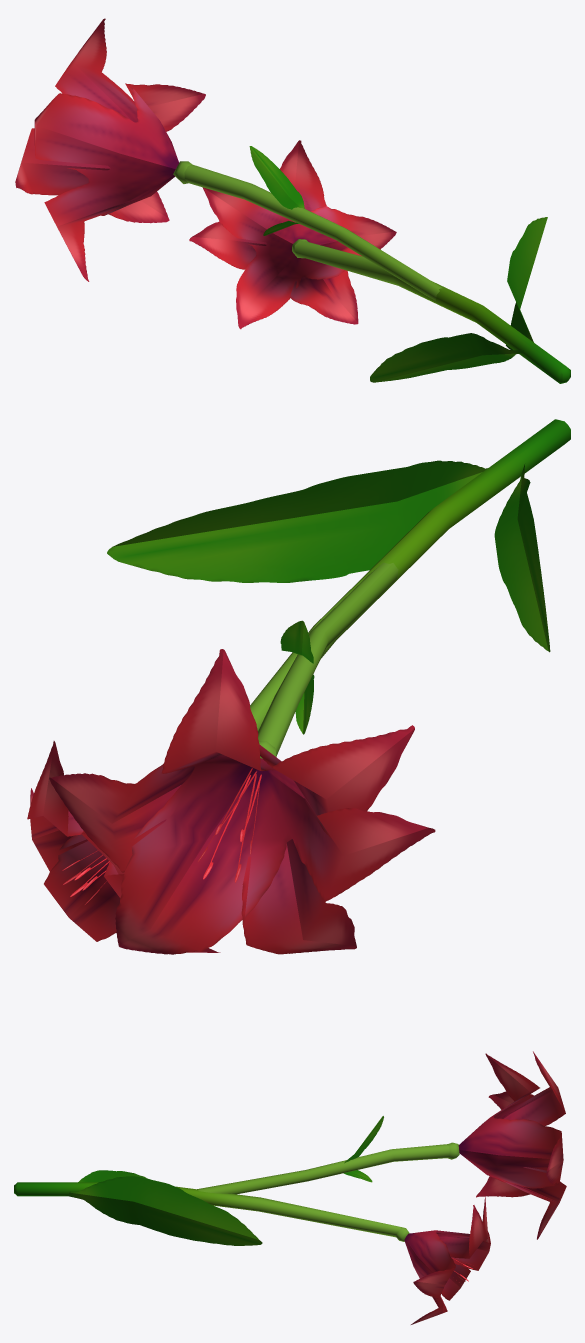
Rendered from SM_Lilly_Red_Two.fbx.
3 views of the same model, one above another, from view 1: azimuth 30°, elevation 25°; view 2: azimuth 150°, elevation 25°; view 3: azimuth 270°, elevation 25° (orthographic). The views are drawn at different scales.
Visible parts, largest first — view 1: Lilly_Red_Two; view 2: Lilly_Red_Two; view 3: Lilly_Red_Two.
Part boxes in pixels (x1,y1,x2,y2): Lilly_Red_Two: (15,18,570,383); Lilly_Red_Two: (27,419,570,954); Lilly_Red_Two: (14,1051,566,1324).
Bounding box in the file's own units: 97.23 × 74.62 × 160.
